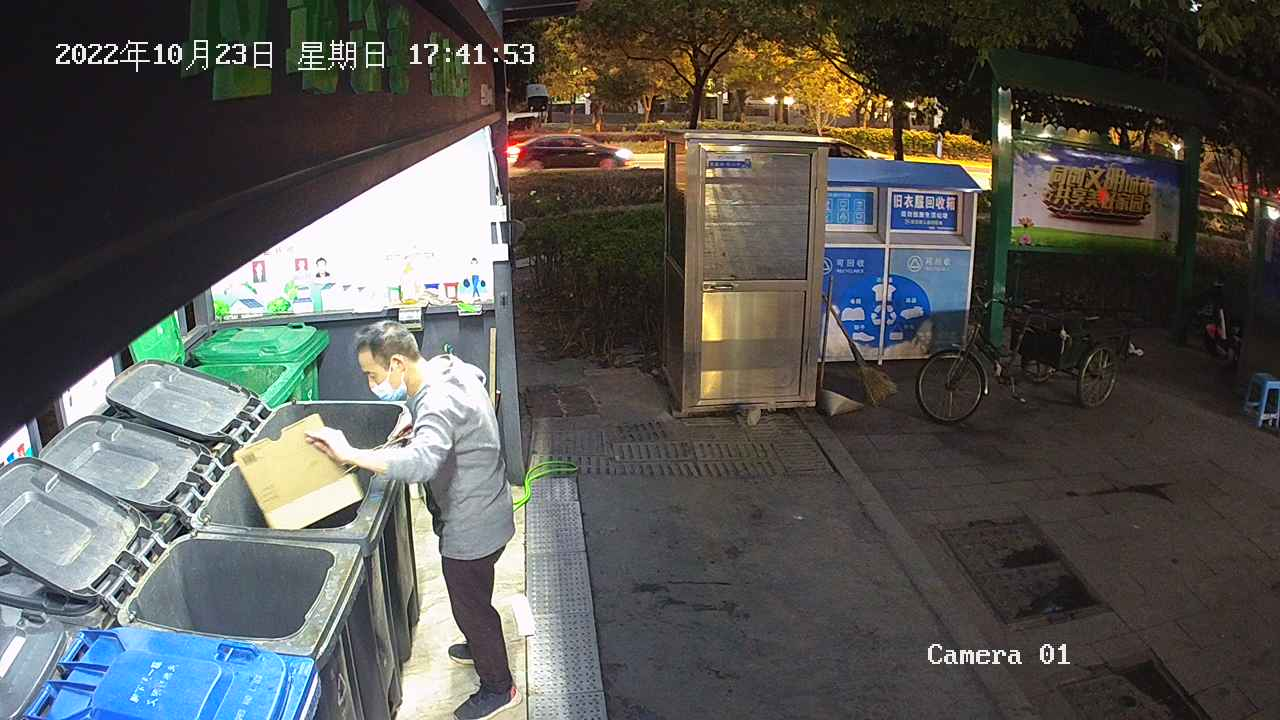person: (301, 316, 520, 720)
